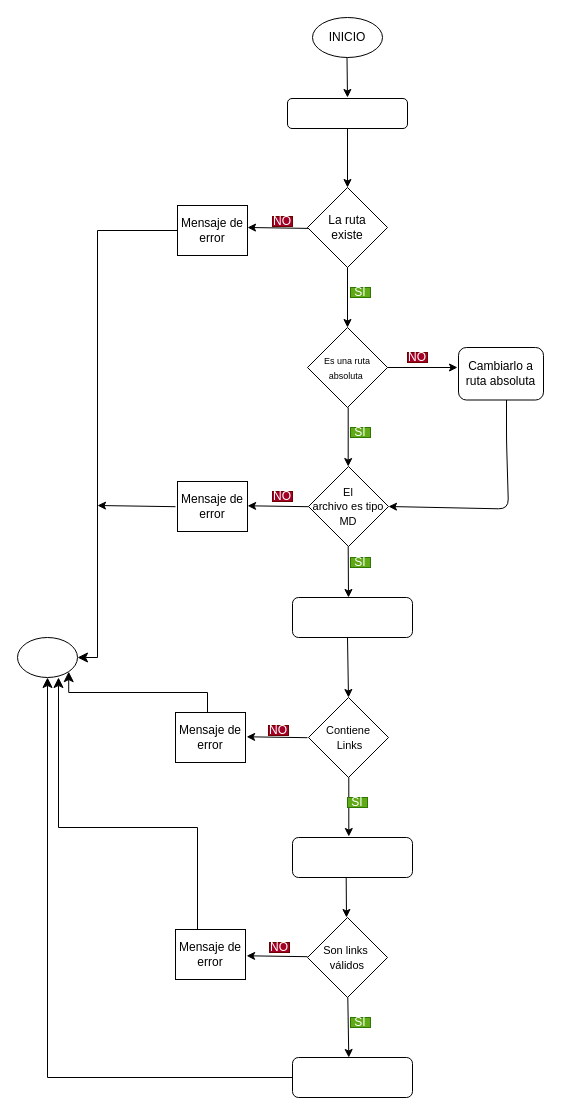
Some shapes in this 561 by 1115 pixel diagram are drawn without their labels. The shapes that lost their labels are listed below. From the top down, each one's box as (x1, y1, x2, y2) in pixels, then its label:
(286, 98, 408, 128): Ingresa una ruta
(292, 596, 412, 638): Leer el archivo
(16, 636, 78, 678): FIN
(292, 836, 412, 878): Se extraen por medio de función
(292, 1056, 412, 1098): Mostrar contenido y cantidades
